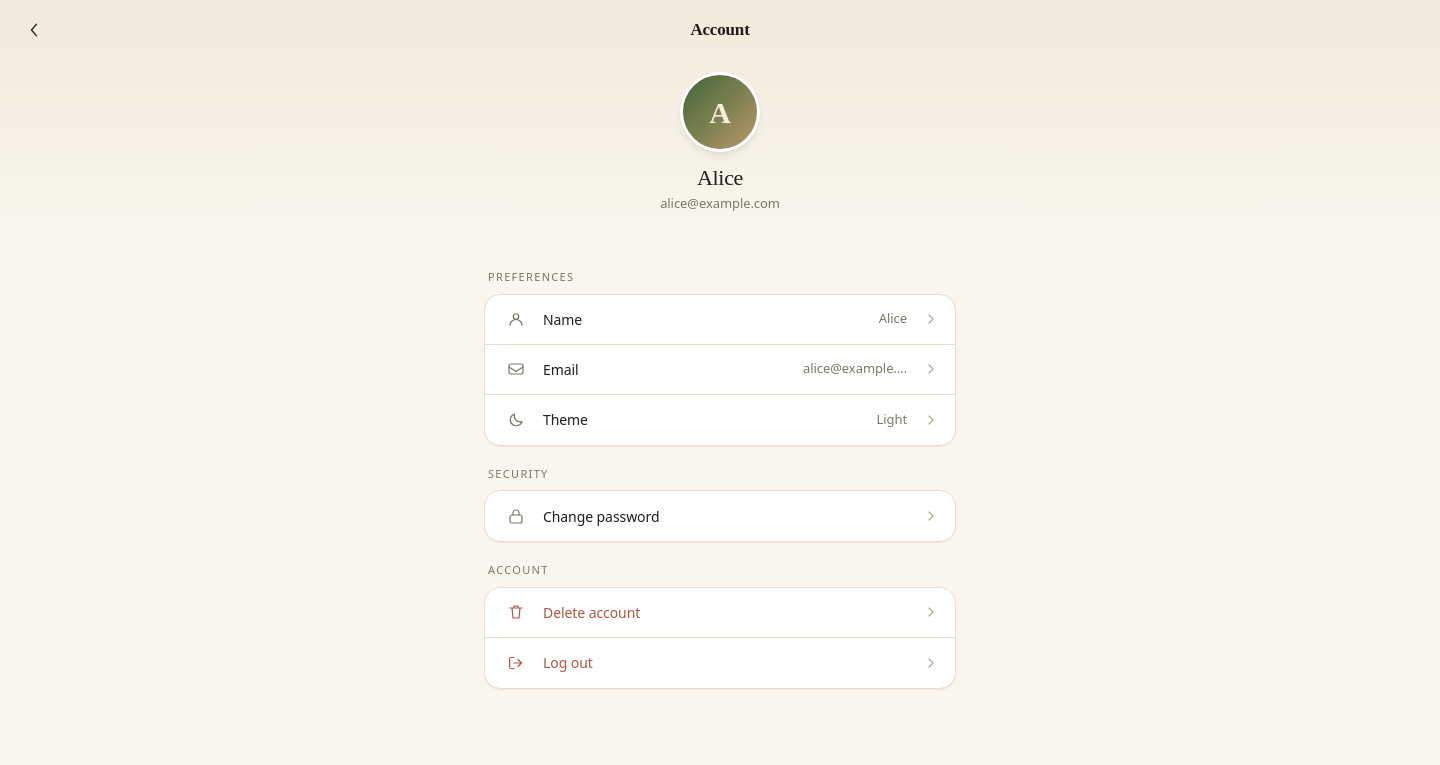
AccountPage › expands the theme picker when the Theme row is clicked
Step 1. Click the text "Theme" → (565, 420), box [543, 410, 588, 429]
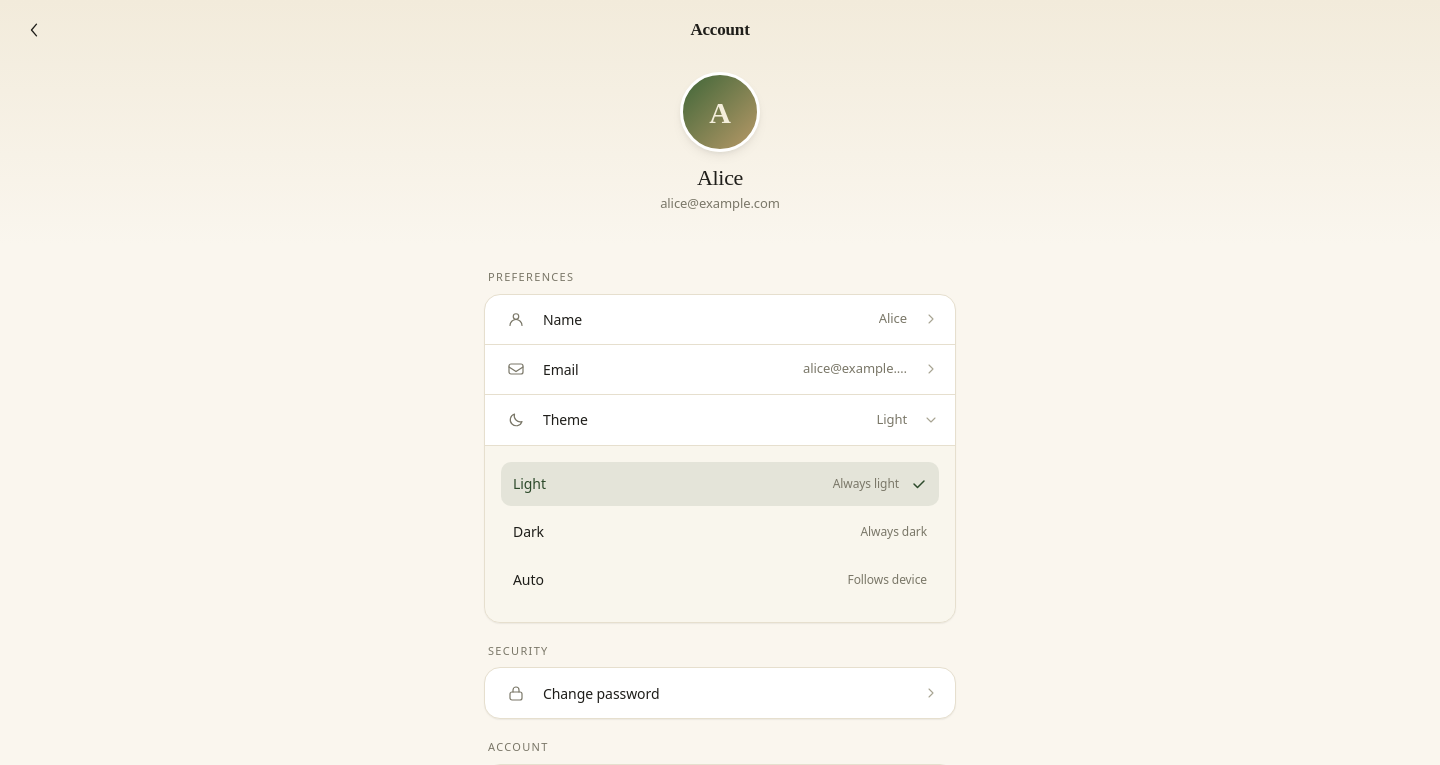
Now the text "Dark" is shown, box [513, 522, 544, 541]
Now the text "Auto" is shown, box [513, 570, 544, 589]
